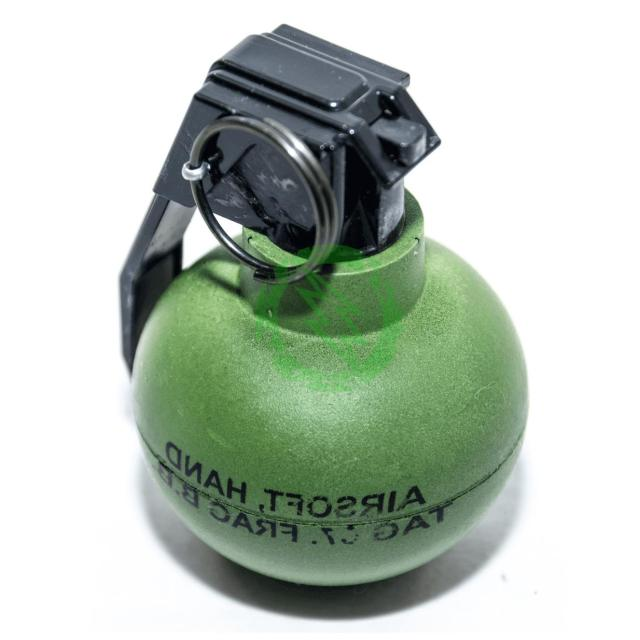grenade: (118, 25, 531, 588)
